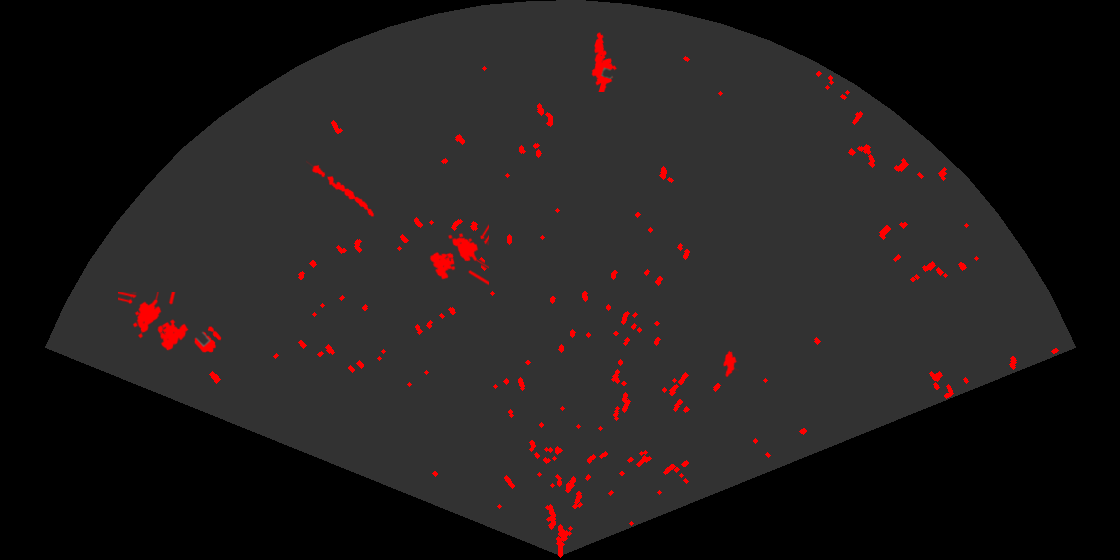AUV: (721, 349, 739, 379)
ball: (193, 325, 223, 354)
cage: (118, 292, 190, 352), (428, 223, 489, 287)
chain: (306, 159, 376, 218)
frogman: (590, 30, 619, 92)
